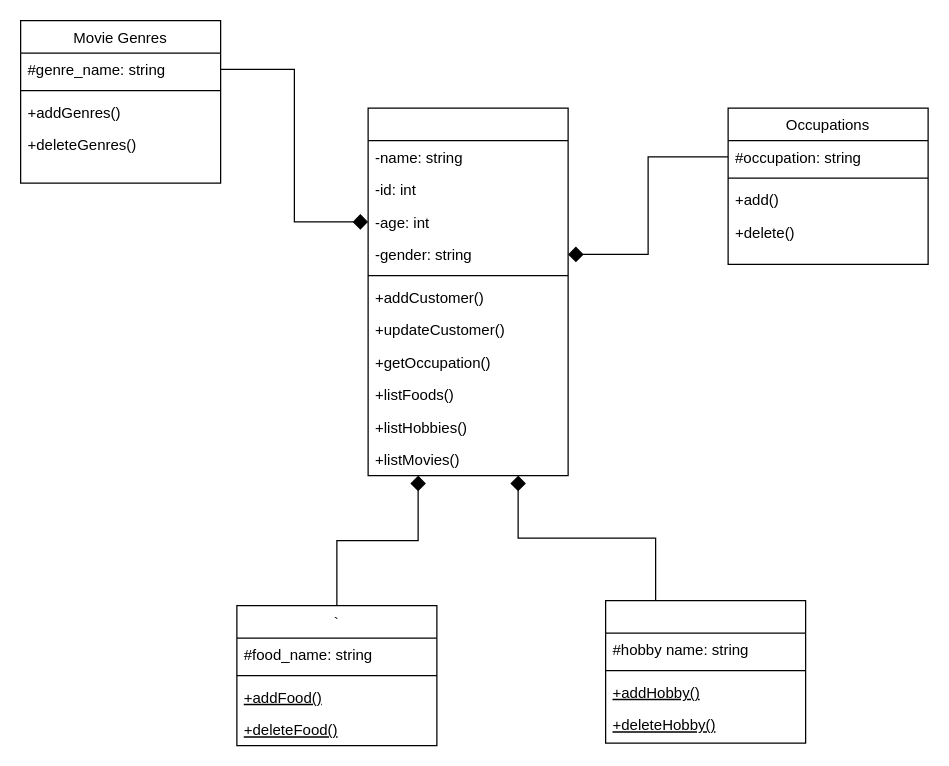
Image size: 949x766. Some labels were removed from this diagram. Each missing label, with the box of its shape:
Customers: (367, 107, 568, 476)
Hobbies: (604, 599, 806, 743)
